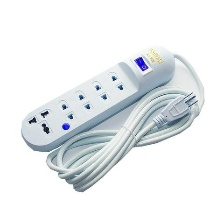three_eye_plug: (17, 43, 180, 156)
